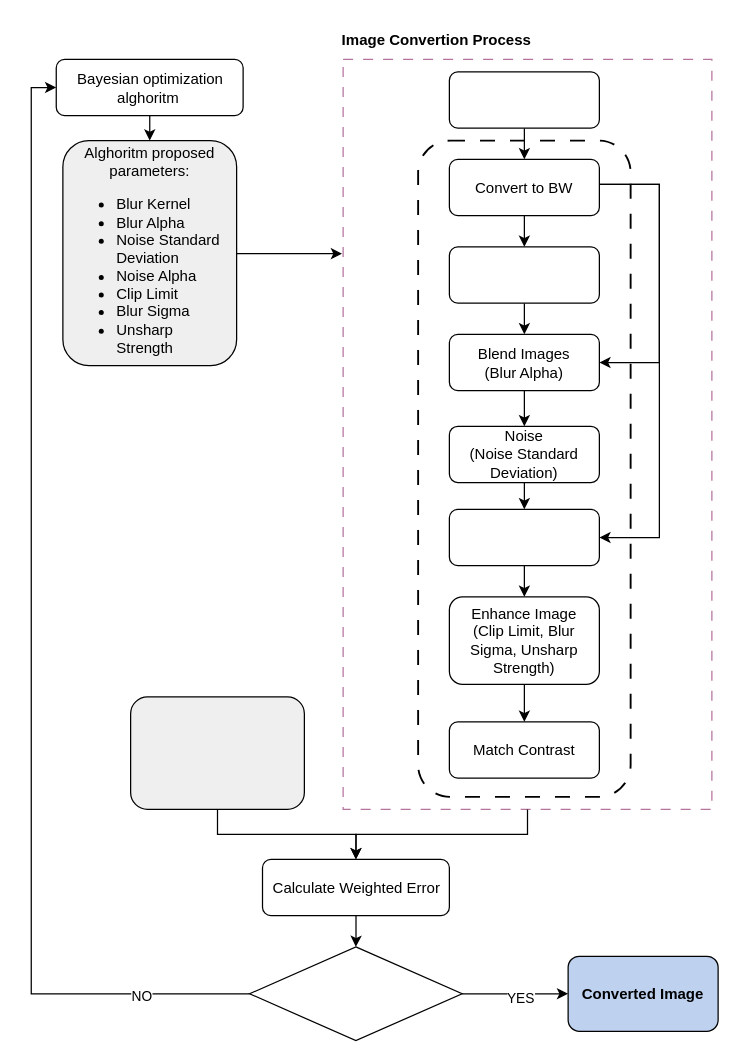
Image size: 740x1063. Some labels were removed from this diagram. The centre of each missing label's shape, as x and y in pixels:
"Blend Images (Noise Alpha)" belongs at (523,537).
"Blur (Blur Kernel)" belongs at (523,274).
"Error Below 0.45 or Iteration = 45" belongs at (355,993).
"Input Parameters: target blur target noise target contrast" belongs at (216,752).
"Input RGB Image" belongs at (523,99).
